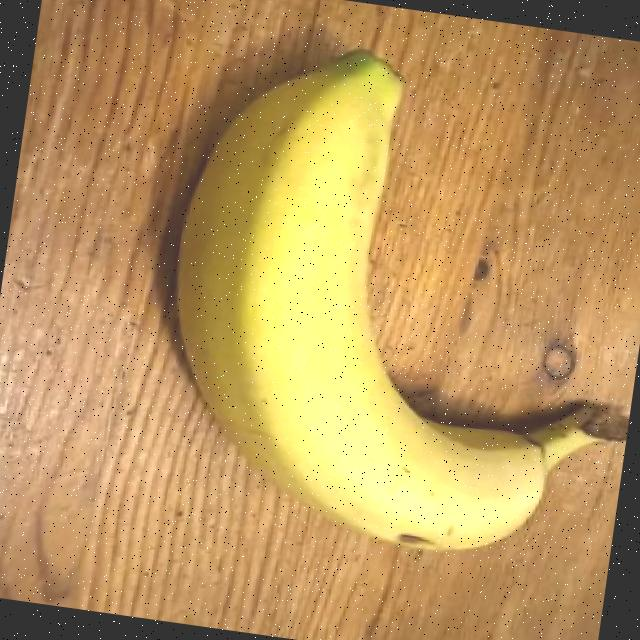Ripe: (107, 0, 640, 605)
